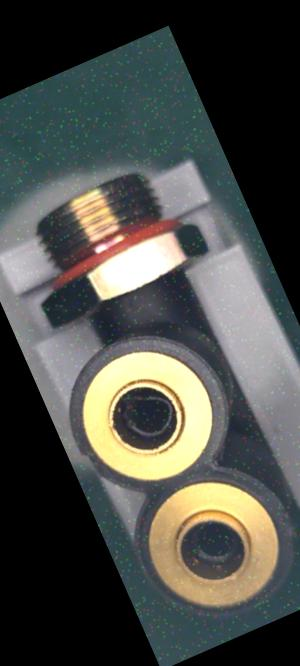bump: (79, 445, 99, 471)
off-centered: (109, 376, 186, 450)
white mark: (125, 292, 148, 313)
